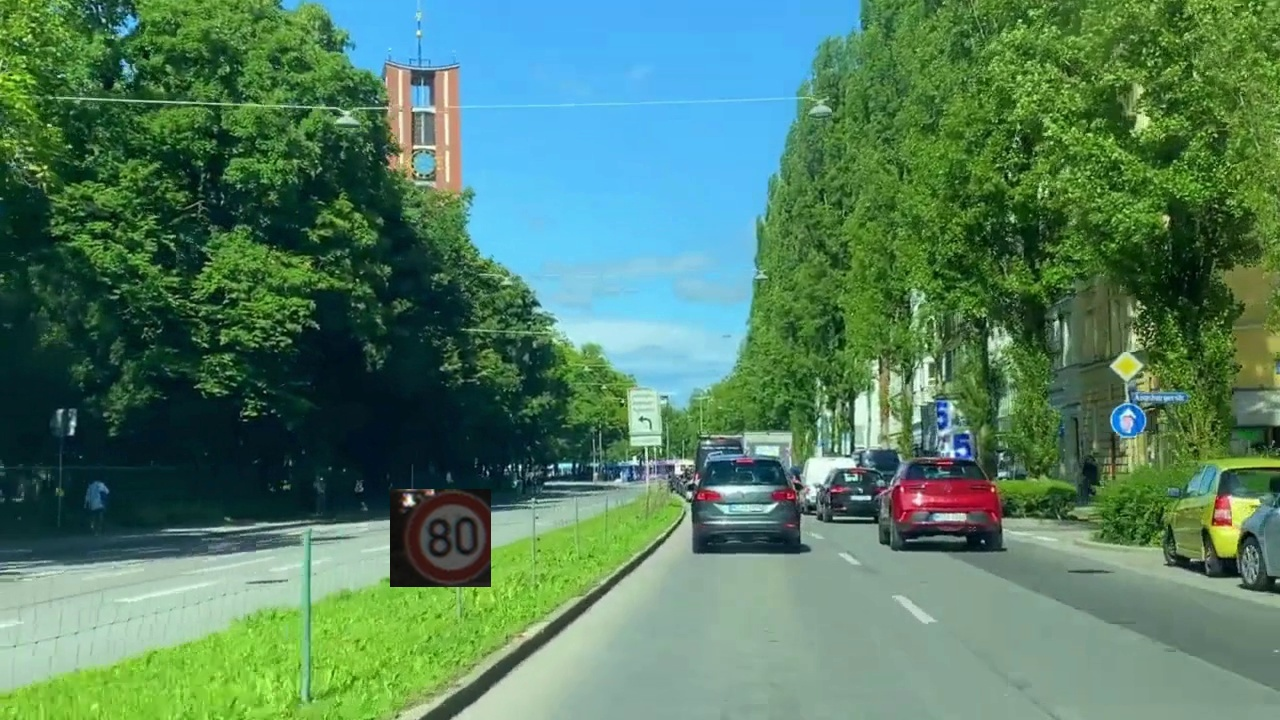Speed 80: (390, 489, 491, 587)
